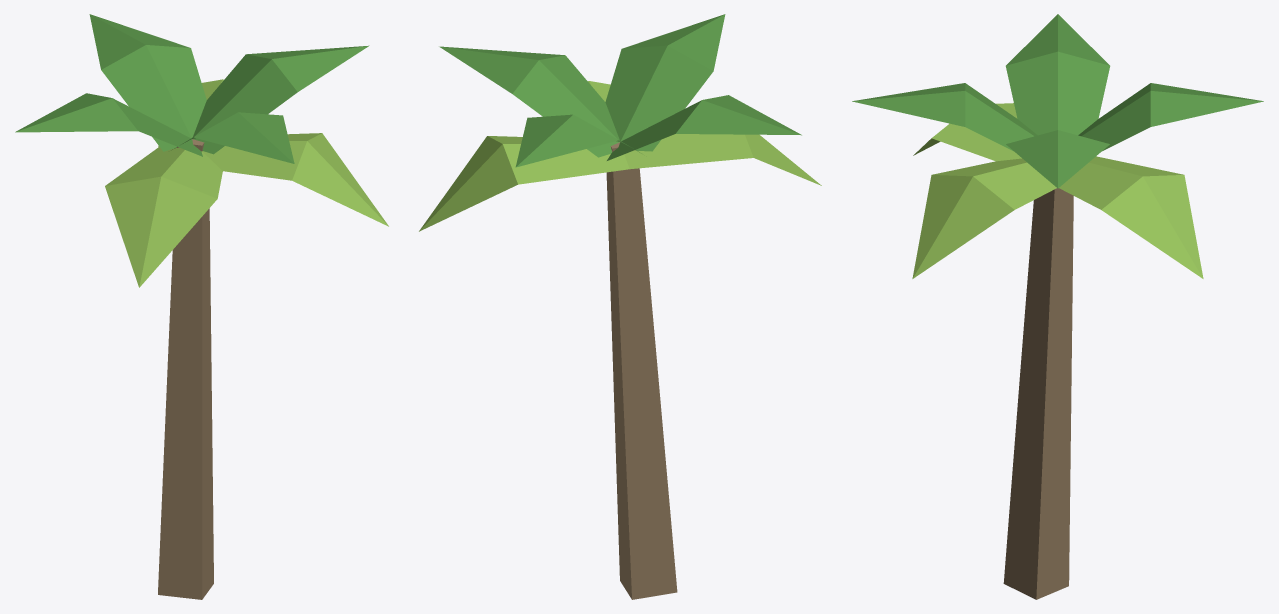
File: palm_b_lod.glb
The picture shows the model from 3 angles, left to right: view 1: azimuth 30°, elevation 25°; view 2: azimuth 150°, elevation 25°; view 3: azimuth 270°, elevation 25°; orthographic projection. The views are drawn at different scales.
Parts seen in each view (by area): view 1: Body; view 2: Body; view 3: Body.
Part boxes in pixels (x1,y1,x2,y2): Body: [15, 14, 388, 599]; Body: [419, 14, 821, 599]; Body: [852, 14, 1263, 599].
Bounding box in the file's own units: 6.32 × 8.5 × 6.32.
